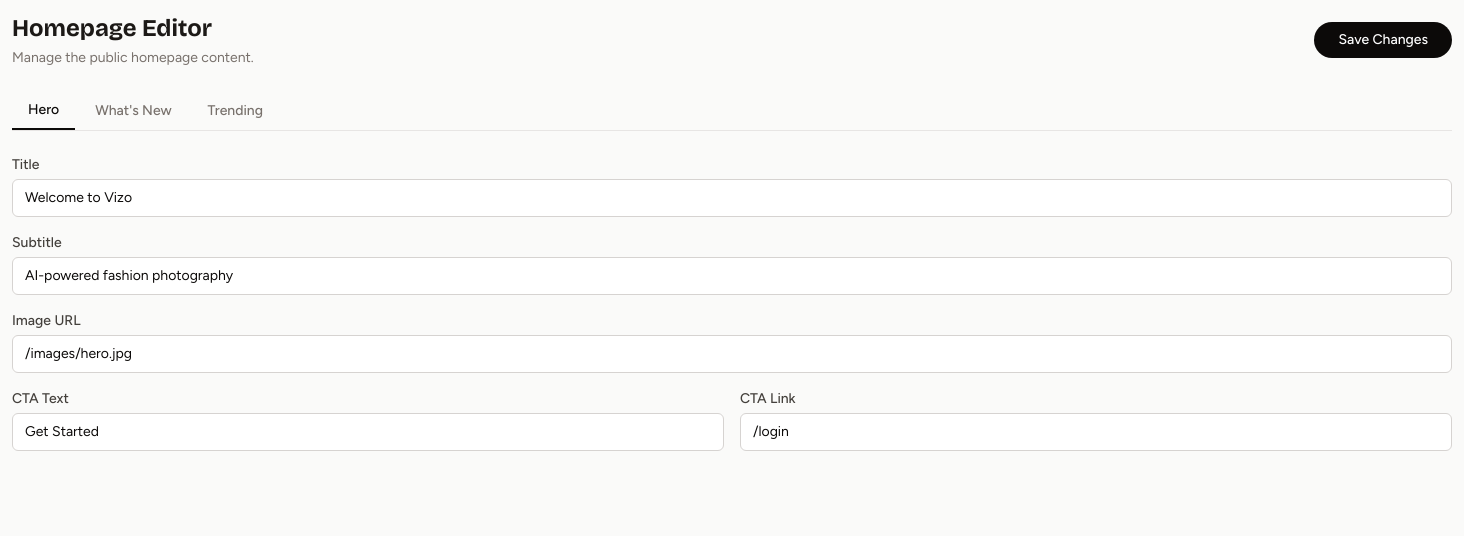
Test: HomepageEditor › saves changes and shows success
The width and height of the screenshot is (1464, 536).
Replace the text in the field labelled "Title" with "New Title" at (732, 198), box [12, 179, 1452, 217]
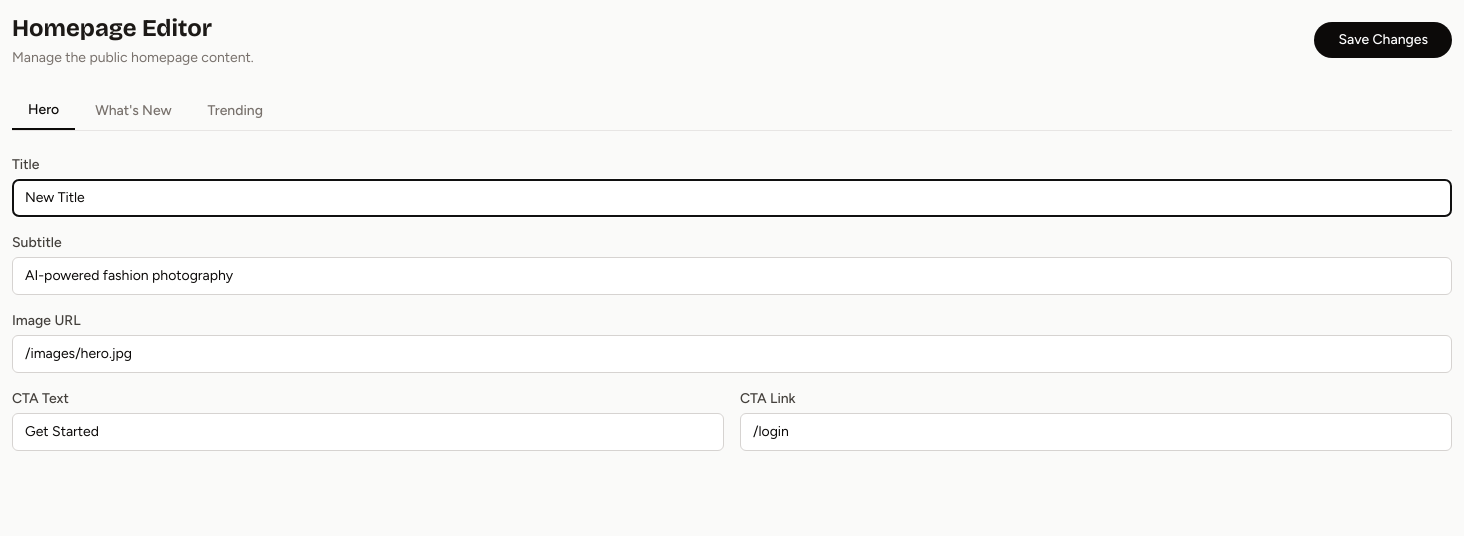
Click the button "Save Changes".
click(1383, 40)  # box [1314, 22, 1452, 58]
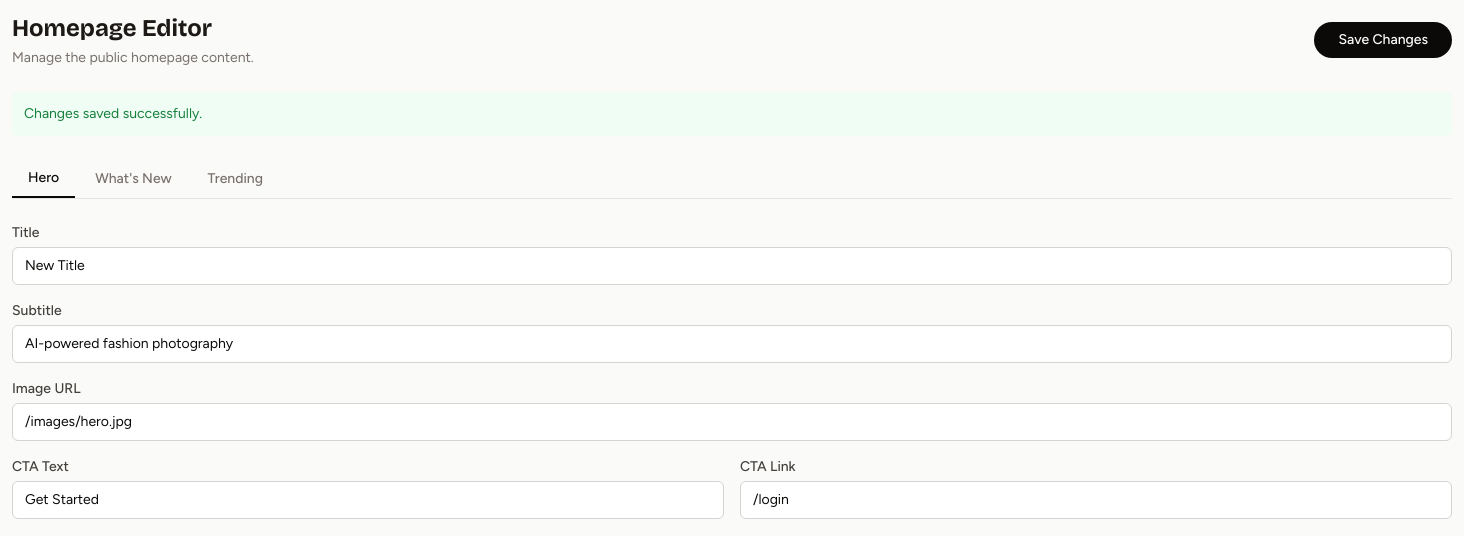
Expected: the message shows "Changes saved", [24, 105, 202, 122]
